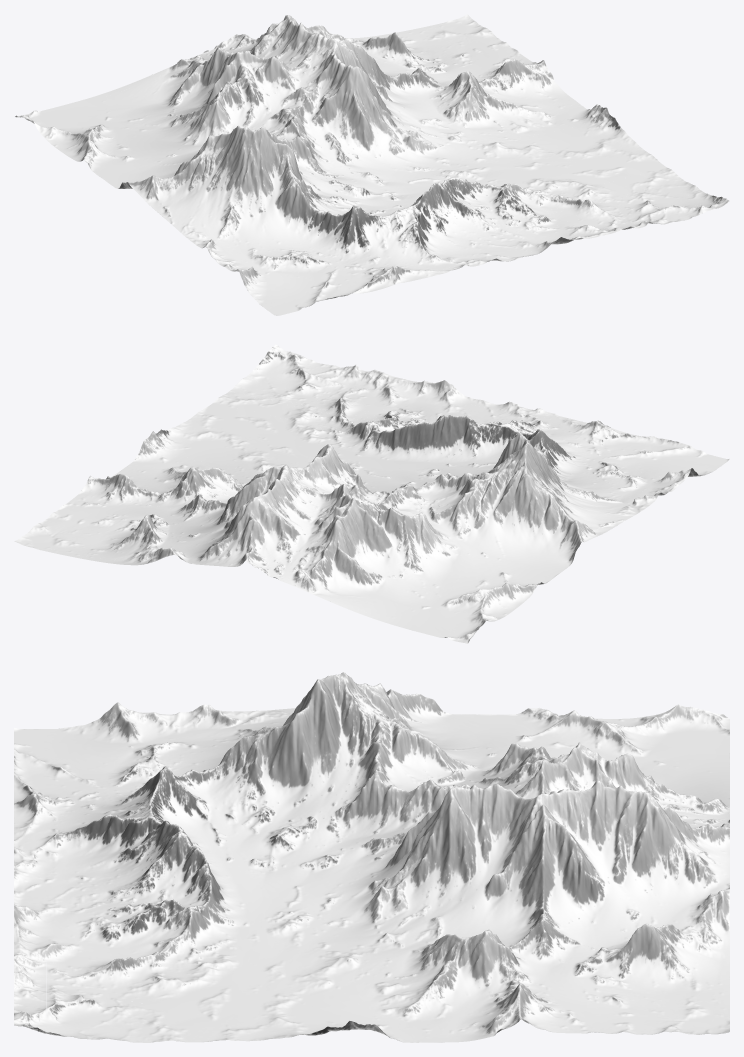
File: about-meshopt.glb
3 renders of one model, top to bottom at view 1: azimuth 30°, elevation 25°; view 2: azimuth 150°, elevation 25°; view 3: azimuth 270°, elevation 25°, orthographic. The views are drawn at different scales.
Visible parts, largest first — view 1: Object_5, Object_3, Object_2, Object_4, Object_6; view 2: Object_4, Object_2, Object_5, Object_3, Object_6; view 3: Object_3, Object_4, Object_2, Object_5, Object_6.
Boxes of the visible parts, left/top/right/bottom form: Object_5: left=165, top=40, right=729, bottom=315; Object_3: left=150, top=107, right=665, bottom=261; Object_2: left=15, top=15, right=600, bottom=205; Object_4: left=96, top=15, right=698, bottom=295; Object_6: left=196, top=14, right=723, bottom=315; Object_4: left=21, top=377, right=704, bottom=621; Object_2: left=15, top=438, right=602, bottom=643; Object_5: left=83, top=344, right=728, bottom=564; Object_3: left=152, top=403, right=668, bottom=533; Object_6: left=14, top=350, right=729, bottom=562; Object_3: left=180, top=672, right=359, bottom=1042; Object_4: left=82, top=702, right=720, bottom=1039; Object_2: left=359, top=683, right=729, bottom=1042; Object_5: left=14, top=716, right=541, bottom=1042; Object_6: left=14, top=727, right=726, bottom=1042.
Bounding box in the file's own units: 20 × 3.9 × 20.
Materials: 1 (1 with a texture image).
